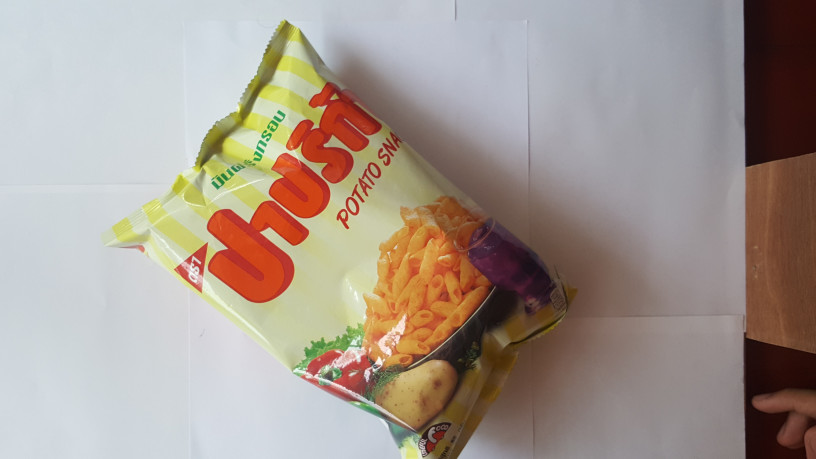paprika: (106, 13, 584, 459)
